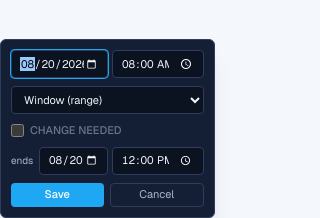
Test case: editing a window › refuses a window that ends before it starts
(page scrolled)
Replace the text in the time field named "Window end time" with "06:00" at (158, 160), box [112,146,204,174]
(page scrolled)
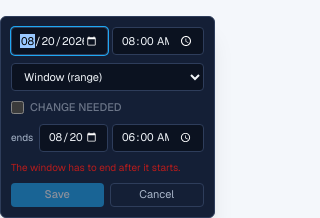
Check: the message shows "end after it starts", box [11,160,180,174]
Check: the button "Save" is disabled, box [11,182,104,206]
